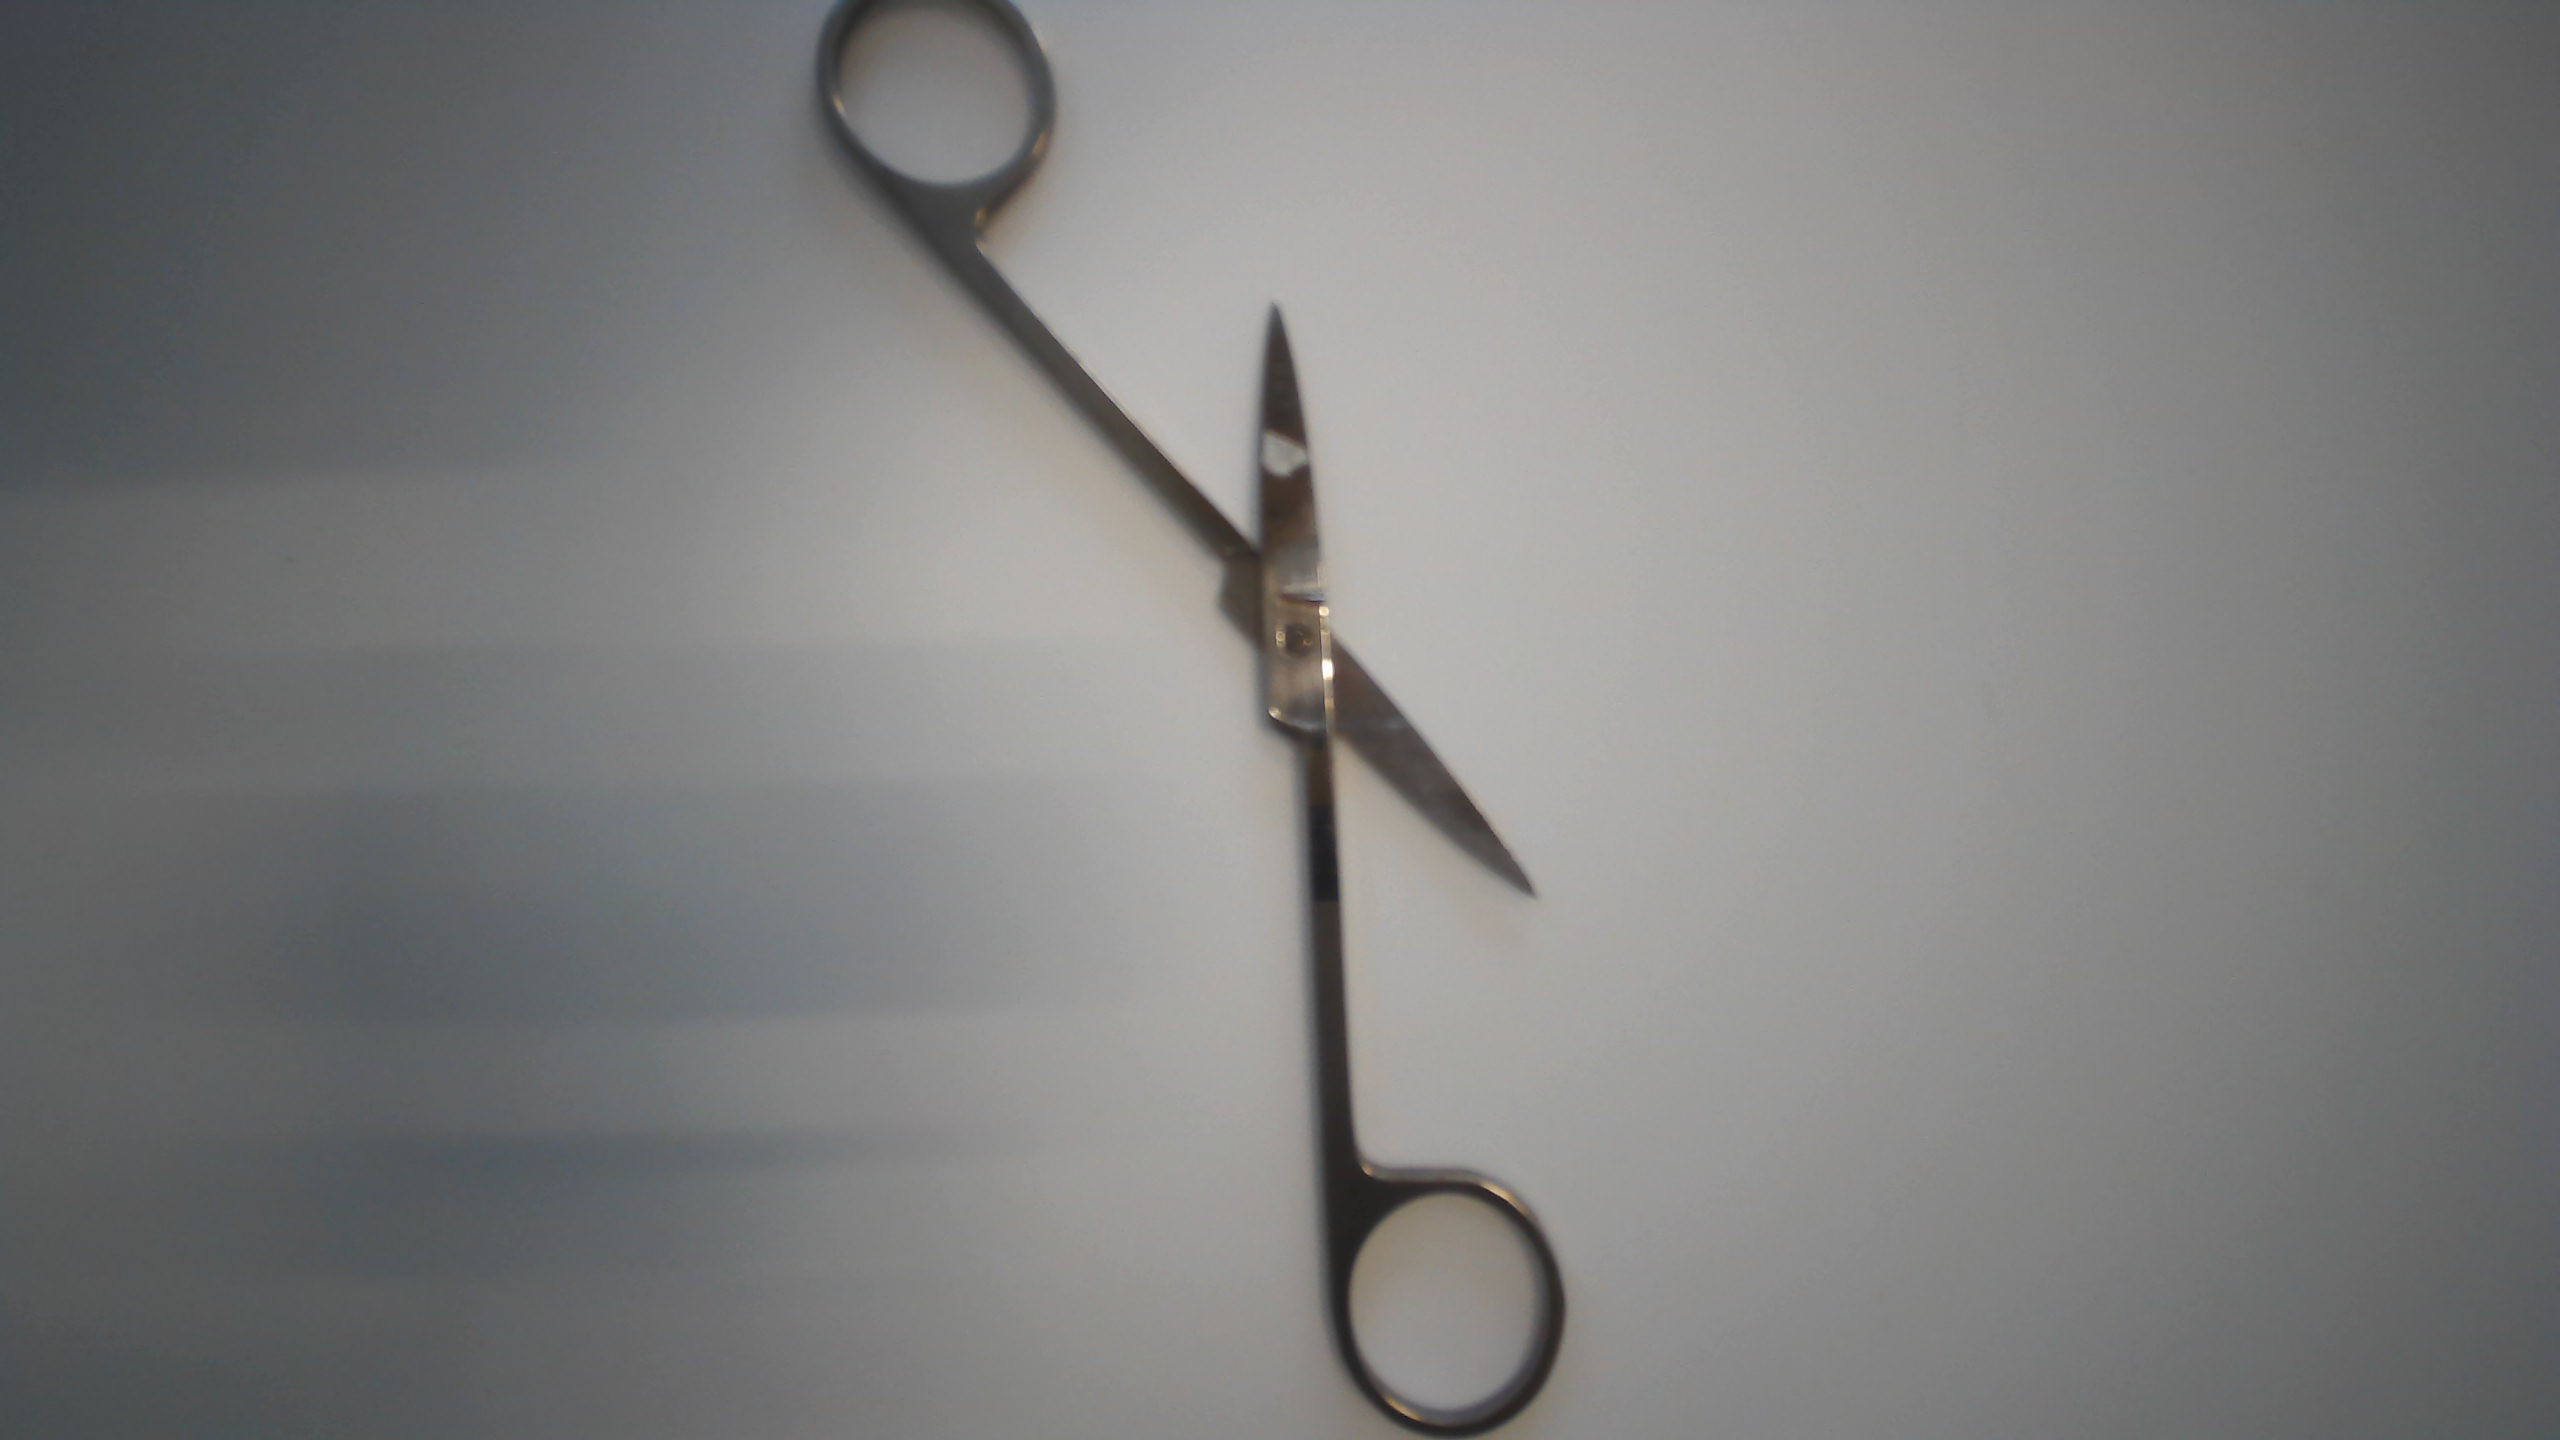Tissues: (1247, 417, 1320, 487)
